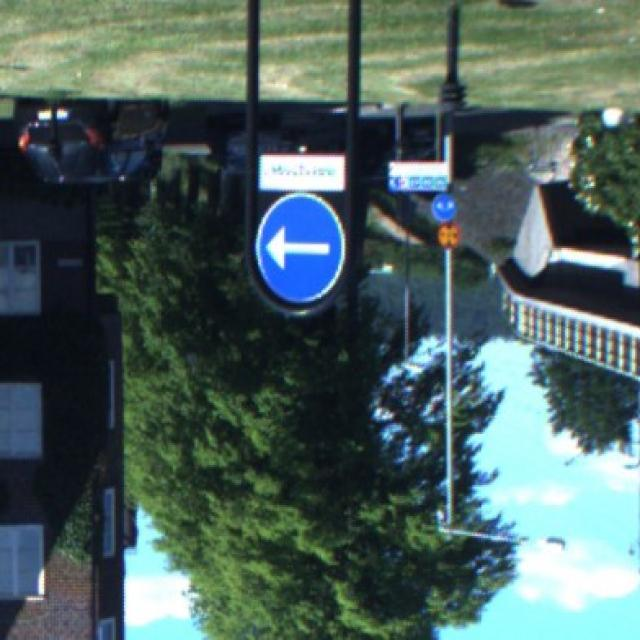Turn Left: (257, 194, 354, 311)
